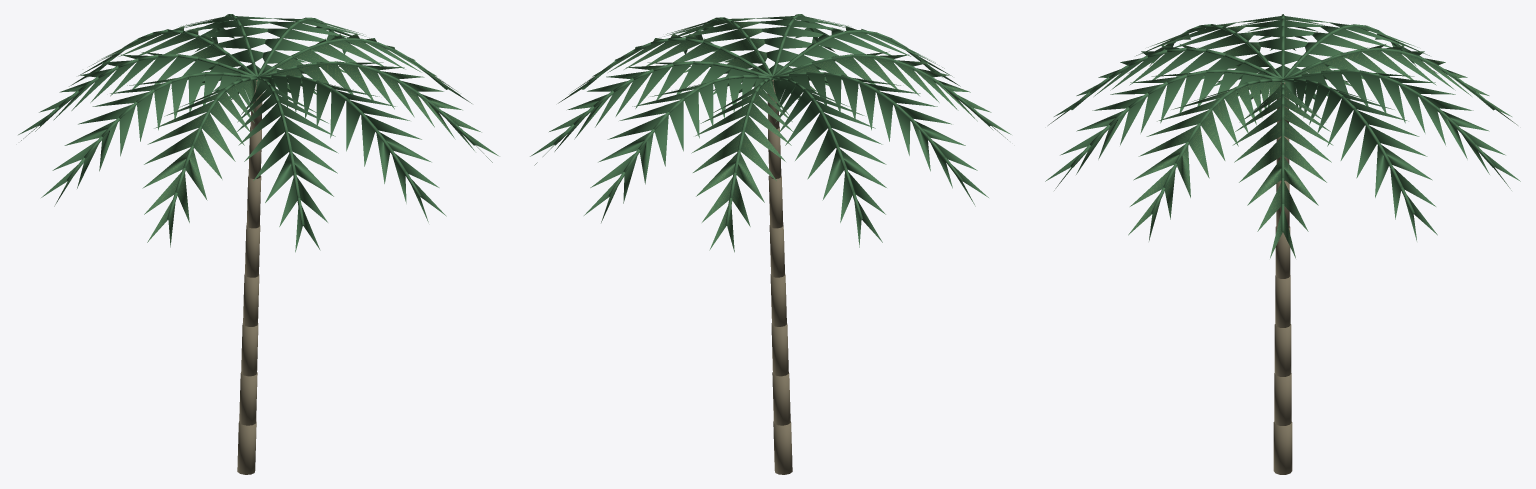
The model's file is palm.glb.
3 renders of one model, left to right at view 1: azimuth 30°, elevation 25°; view 2: azimuth 150°, elevation 25°; view 3: azimuth 270°, elevation 25°, orthographic.
Parts seen in each view (by area): view 1: palm_leaf, palm_bark, palm_leaflight; view 2: palm_leaf, palm_bark, palm_leaflight; view 3: palm_leaf, palm_bark, palm_leaflight.
Part boxes in pixels (x1,y1,x2,y2): palm_leaf: [18, 14, 498, 252]; palm_bark: [237, 80, 262, 474]; palm_leaflight: [76, 27, 493, 240]; palm_leaf: [530, 14, 1011, 251]; palm_bark: [767, 80, 792, 474]; palm_leaflight: [559, 19, 1007, 247]; palm_leaf: [1045, 14, 1520, 258]; palm_bark: [1273, 82, 1292, 474]; palm_leaflight: [1132, 23, 1510, 257].
Bounding box in the file's own units: 9.04 × 8.43 × 8.75.
